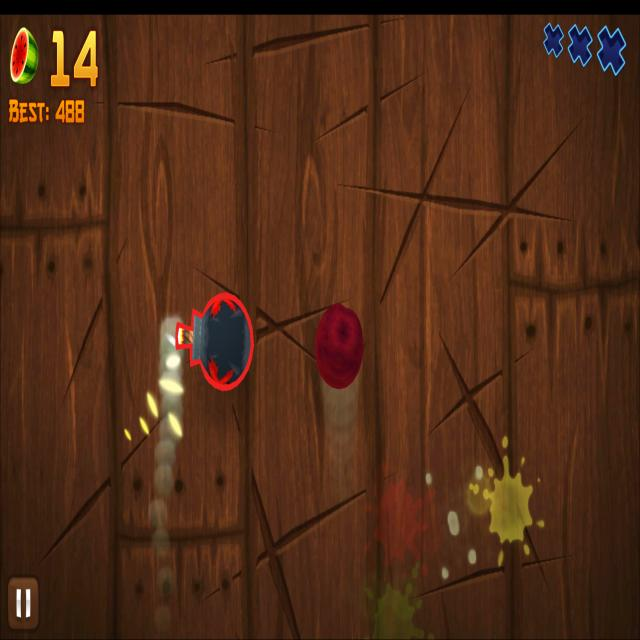bomb: (176, 292, 254, 391)
fruit: (314, 305, 364, 390)
